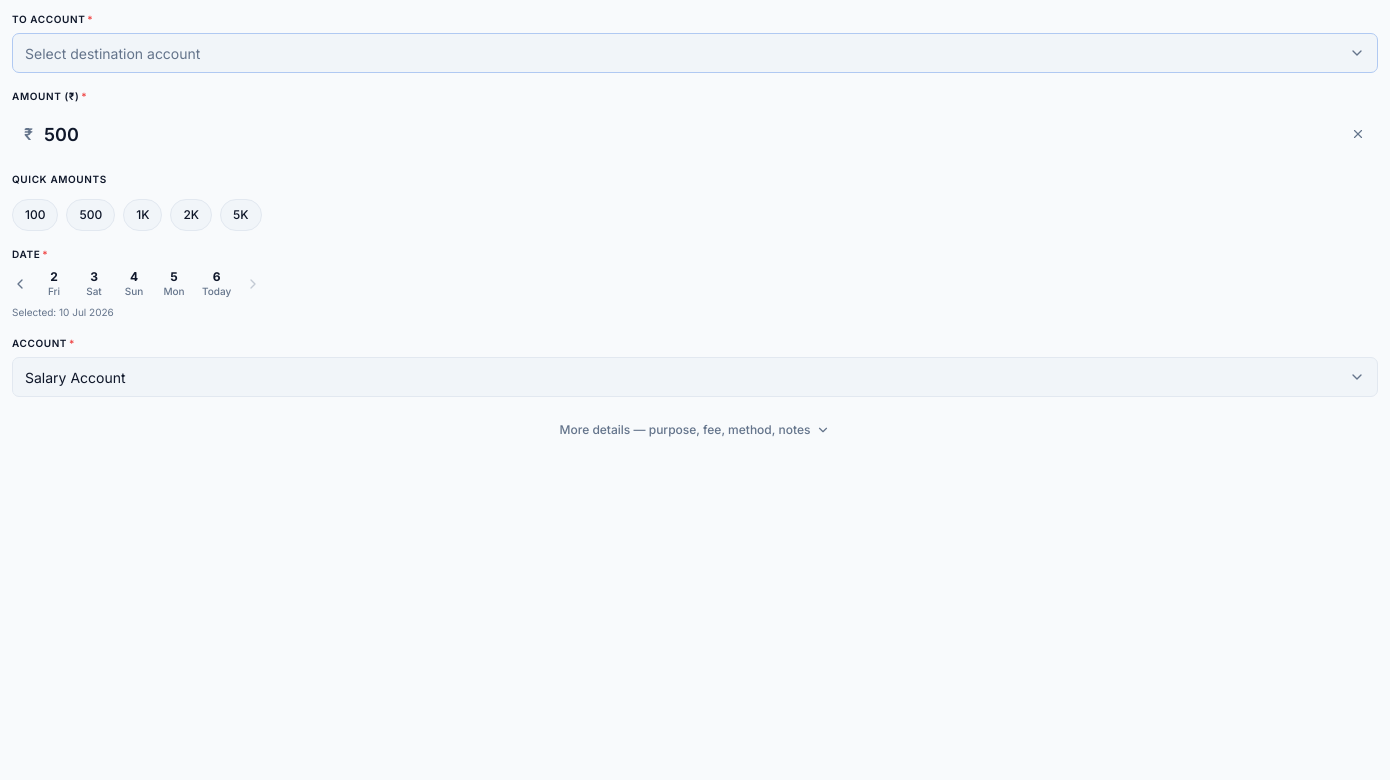
Test: TransferForm — fund purpose tag › renders a Fund picker with the passed-in funds as options
Click the button "More details — purpose, fee, method, notes" at (695, 430), box [12,413,1378,447]
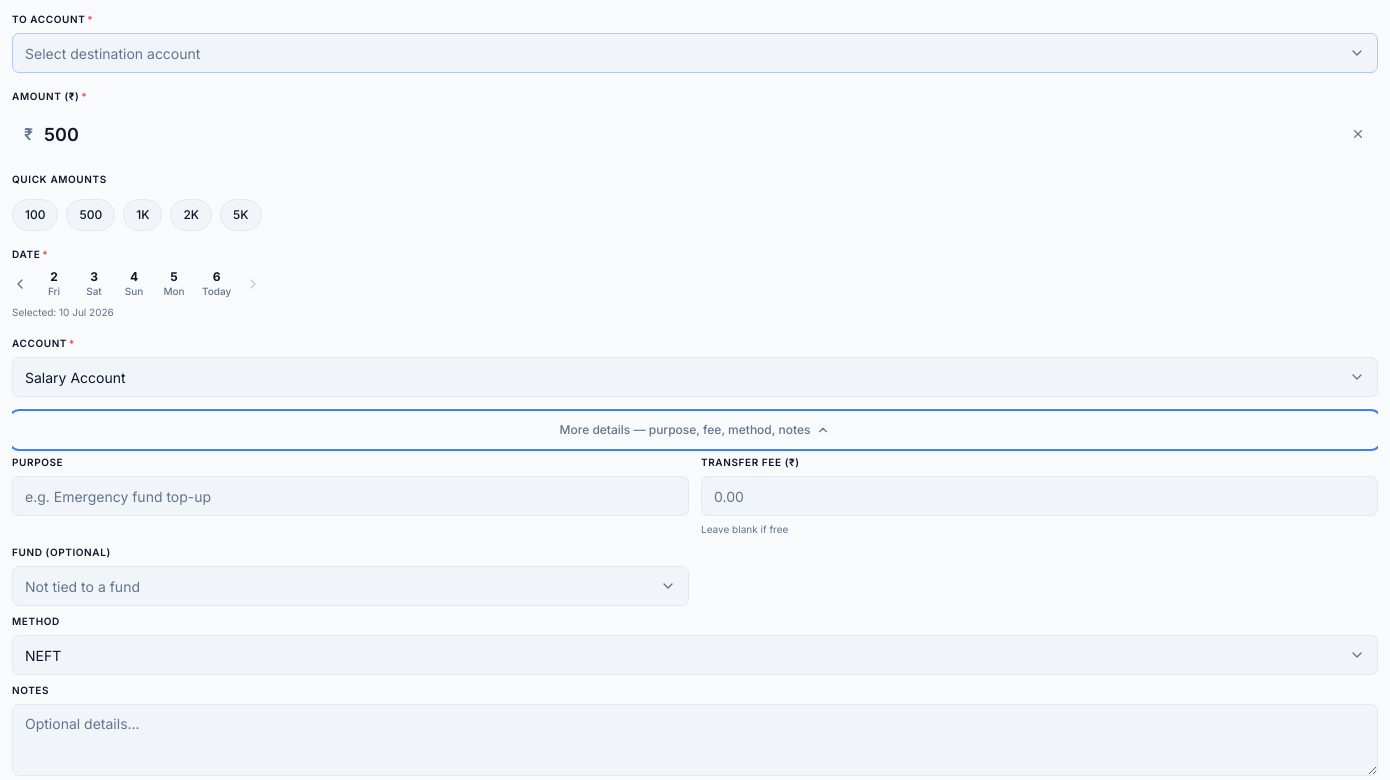
Click the dropdown labelled "Not tied to a fund" at (82, 586), box [12,566,689,606]
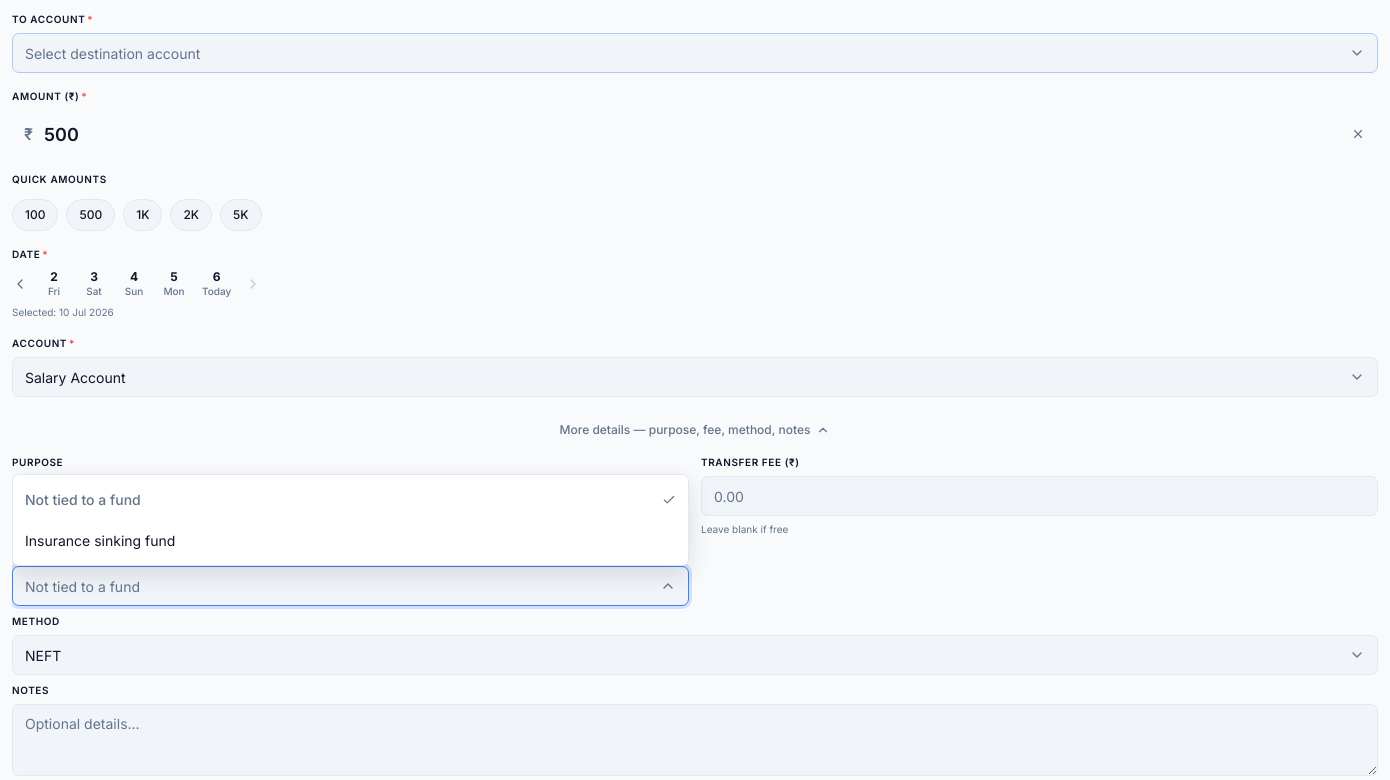
Expected: the option "Insurance sinking fund" is shown, [25,532,175,549]
